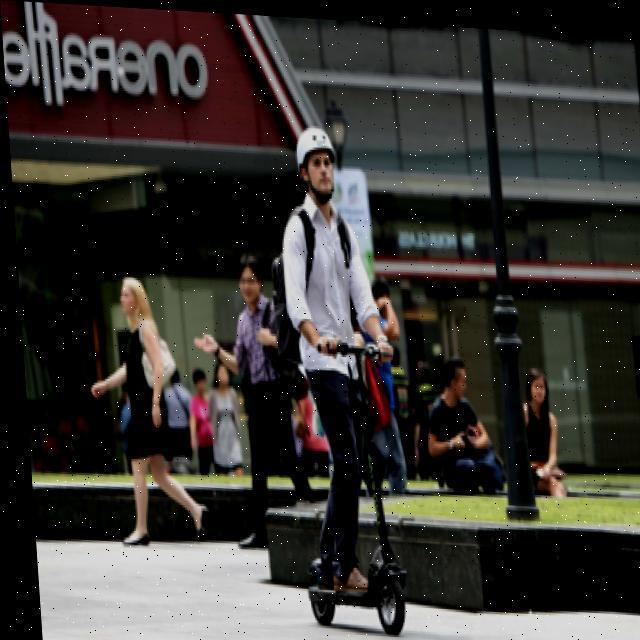Helmet: (284, 104, 344, 212)
